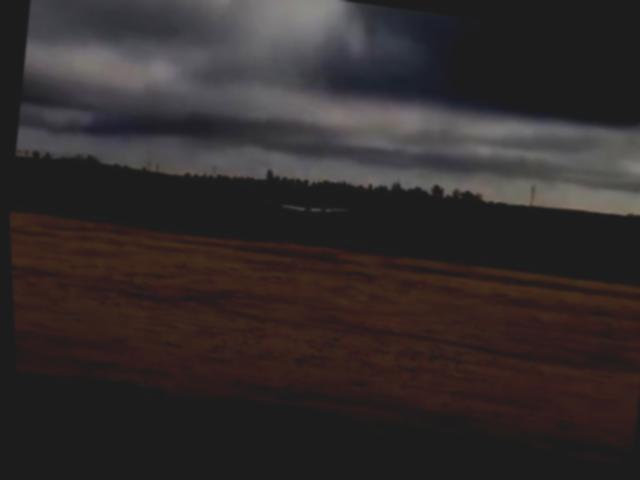iha: (258, 196, 347, 226)
